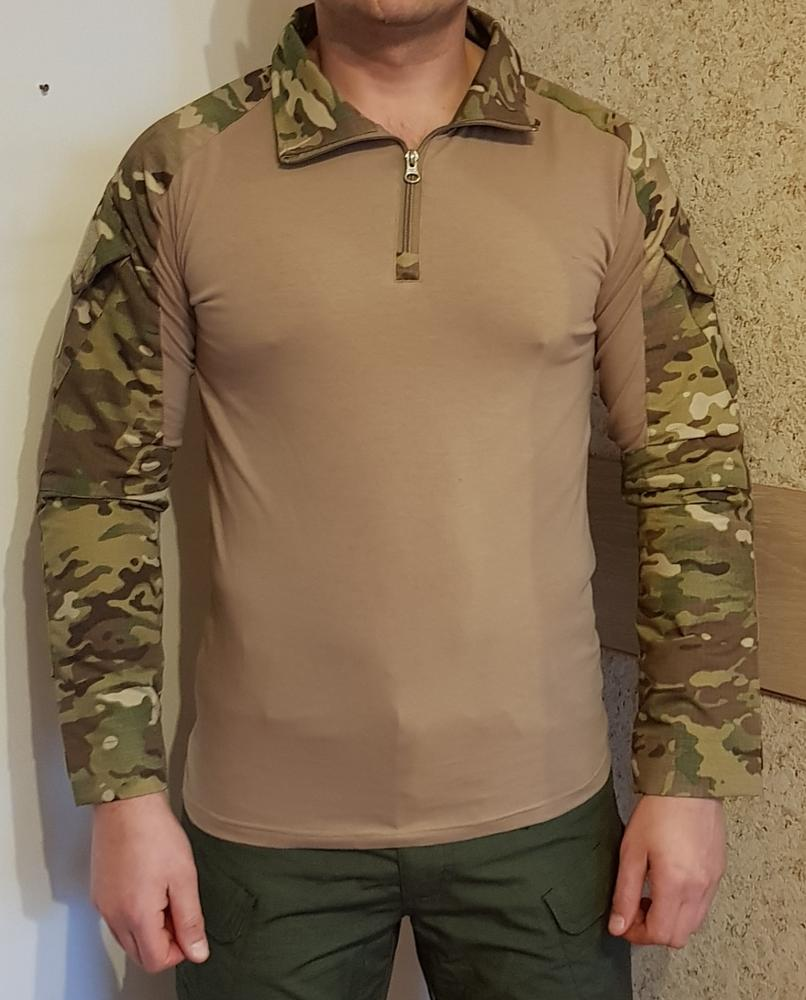shirts: (20, 17, 775, 803)
